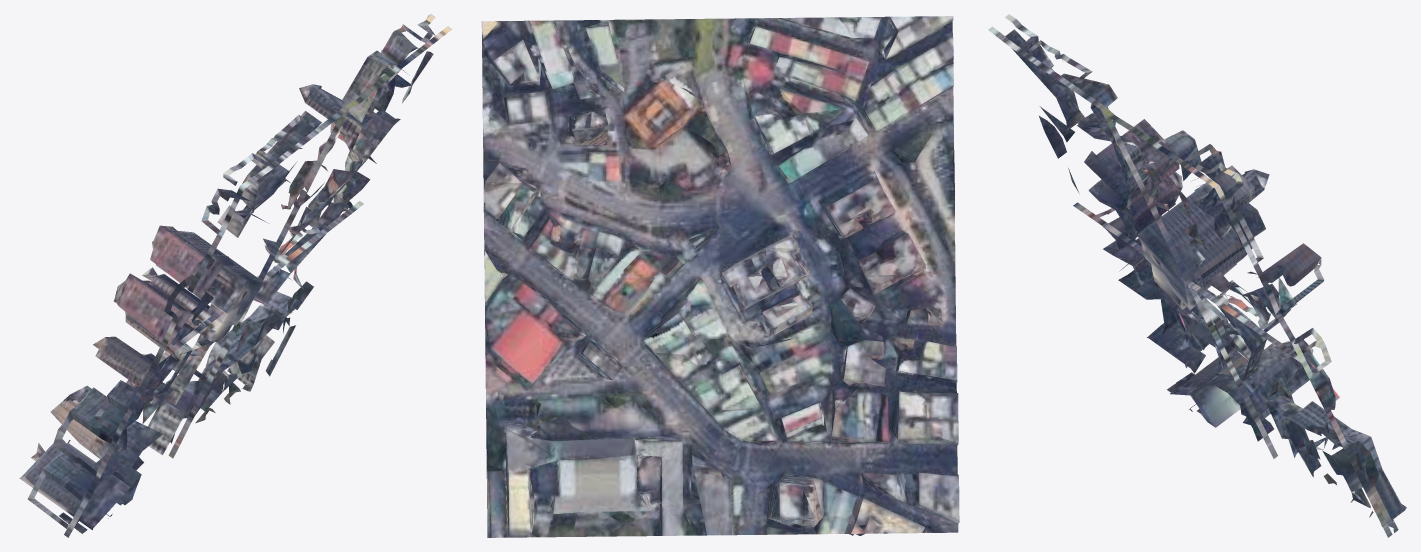
The picture shows the model from 3 angles, left to right: view 1: azimuth 30°, elevation 25°; view 2: azimuth 150°, elevation 25°; view 3: azimuth 270°, elevation 25°; orthographic projection. The views are drawn at different scales.
Bounding box in the file's own units: 320 × 289 × 266.
1 material, 1 textured.
